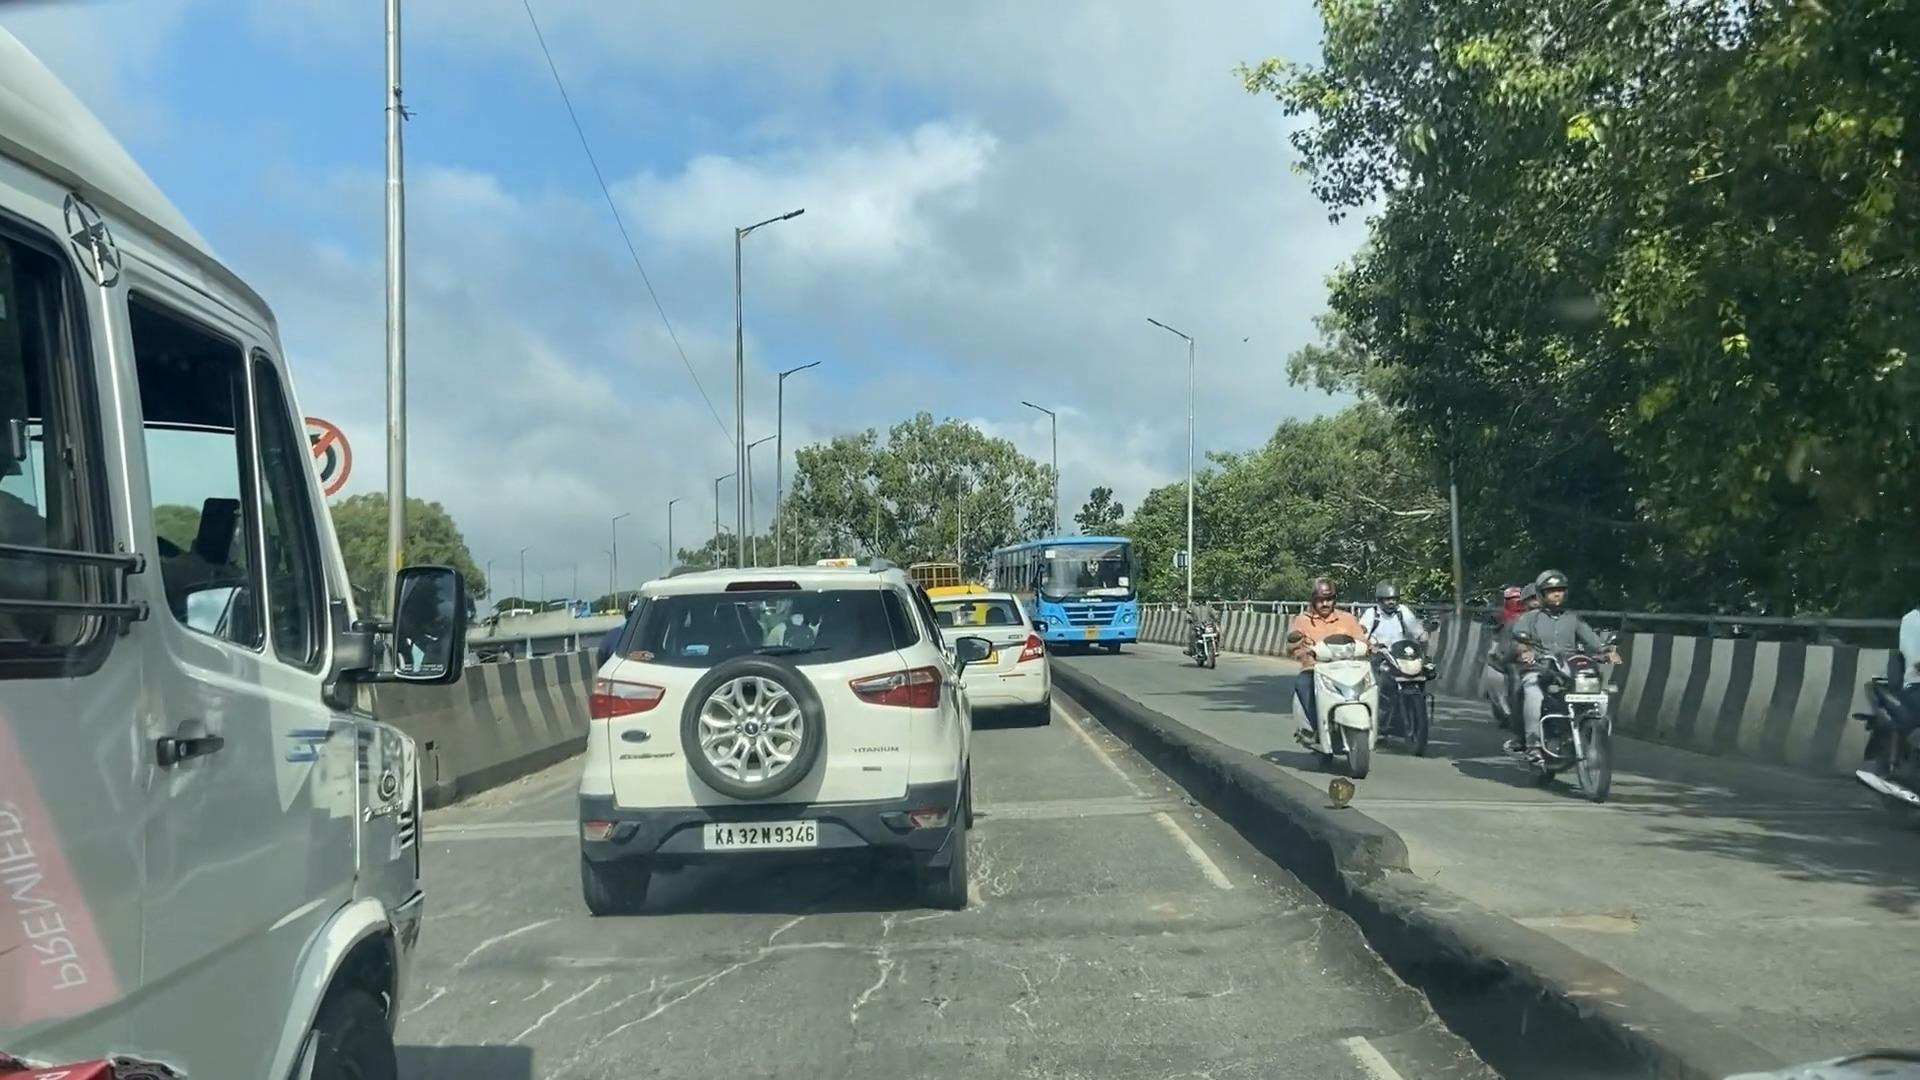LMV: (583, 572, 964, 910), (927, 607, 1048, 728)
RoadDamages: (422, 922, 687, 1071), (955, 833, 1276, 924), (704, 905, 980, 990)
SpeedBump: (967, 794, 1188, 835), (434, 812, 582, 853)
